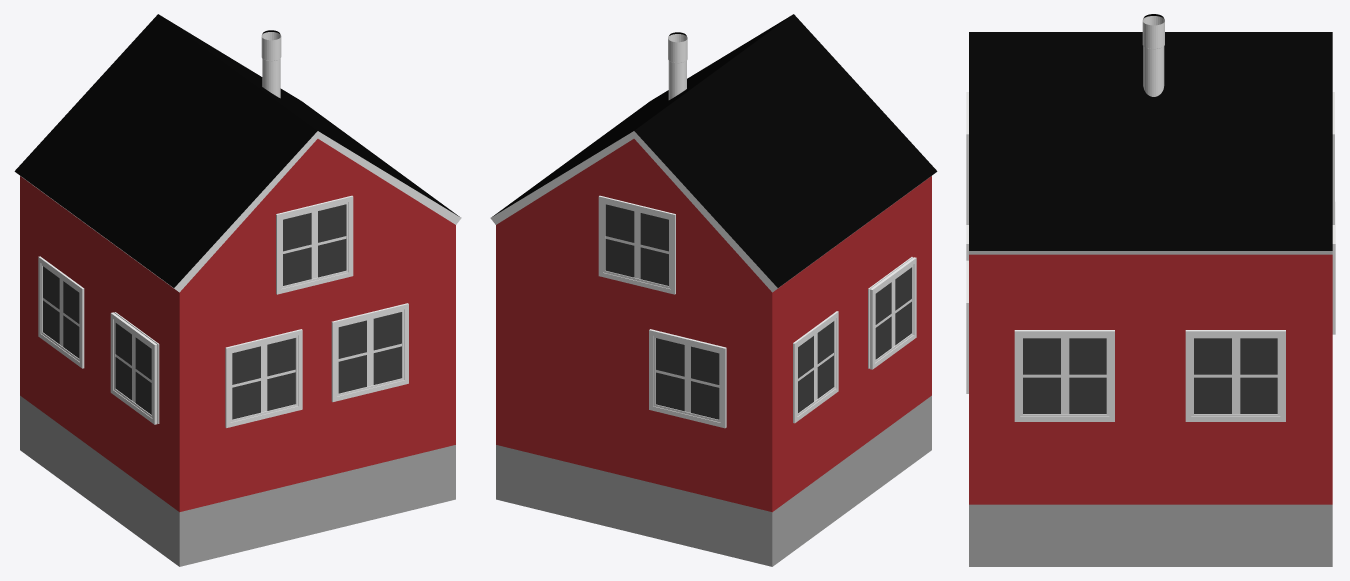
File: SmallHouse_red.glb
3 renders of one model, left to right at view 1: azimuth 30°, elevation 25°; view 2: azimuth 150°, elevation 25°; view 3: azimuth 270°, elevation 25°, orthographic. The views are drawn at different scales.
Visible parts, largest first — view 1: Cube, Cube.001, Cube.010, Cube.002, Cube.003, Cube.005; view 2: Cube, Cube.006, Cube.009, Cube.003, Cube.005; view 3: Cube, Cube.007, Cube.008, Cube.006.
Part boxes in pixels (box(x1,y1,x2,y2)): Cube: box(14, 14, 461, 566); Cube.001: box(225, 329, 302, 427); Cube.010: box(331, 303, 408, 401); Cube.002: box(276, 195, 353, 294); Cube.003: box(110, 312, 157, 424); Cube.005: box(38, 256, 84, 368); Cube: box(490, 14, 937, 566); Cube.006: box(649, 329, 726, 428); Cube.009: box(598, 195, 675, 294); Cube.003: box(870, 257, 916, 369); Cube.005: box(793, 311, 838, 423); Cube: box(969, 14, 1332, 566); Cube.007: box(1014, 330, 1114, 421); Cube.008: box(1185, 330, 1285, 421); Cube.006: box(1332, 201, 1335, 334).
Size of the model in its own units: 2.08 by 2.98 by 2.03.
